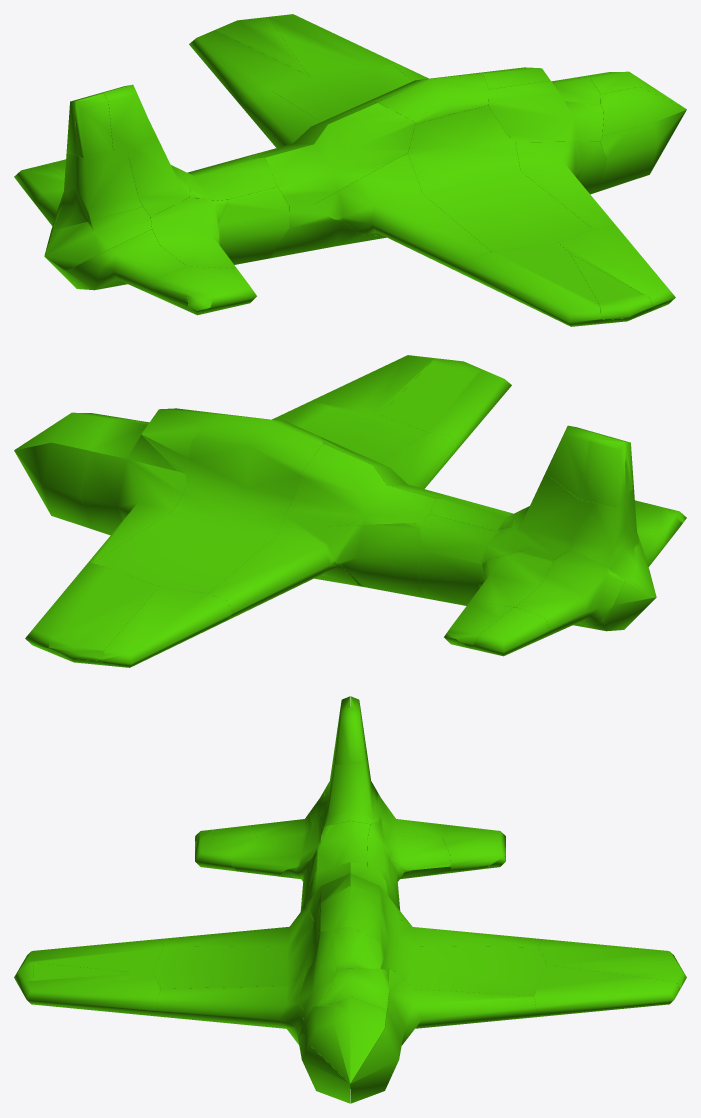
Rendered from plane_shattered.fbx.
The picture shows the model from 3 angles, top to bottom: view 1: azimuth 30°, elevation 25°; view 2: azimuth 150°, elevation 25°; view 3: azimuth 270°, elevation 25°; orthographic projection. The views are drawn at different scales.
Visible parts, largest first — view 1: Plane_cell.013, Plane_cell.032, Plane_cell.030, Plane_cell.023, Plane_cell.005, Plane_cell.039, Plane_cell.025, Plane_cell.019, Plane_cell.012, Plane_cell, Plane_cell.016, Plane_cell.014 (+23 smaller); view 2: Plane_cell.012, Plane_cell.037, Plane_cell.020, Plane_cell.015, Plane_cell.009, Plane_cell, Plane_cell.043, Plane_cell.040, Plane_cell.023, Plane_cell.008, Plane_cell.025, Plane_cell.035 (+23 smaller); view 3: Plane_cell.013, Plane_cell.012, Plane_cell.039, Plane_cell.008, Plane_cell.015, Plane_cell.010, Plane_cell.037, Plane_cell.023, Plane_cell.016, Plane_cell.042, Plane_cell.045, Plane_cell (+22 smaller).
Boxes of the visible parts, x1,y1,x2,y2 form: Plane_cell.013: [408, 106, 592, 251]; Plane_cell.032: [312, 153, 491, 278]; Plane_cell.030: [265, 103, 415, 205]; Plane_cell.023: [466, 242, 600, 326]; Plane_cell.005: [488, 80, 603, 142]; Plane_cell.039: [515, 141, 615, 228]; Plane_cell.025: [53, 152, 142, 229]; Plane_cell.019: [218, 187, 289, 264]; Plane_cell.012: [272, 64, 412, 121]; Plane_cell: [189, 30, 309, 105]; Plane_cell.016: [150, 198, 236, 268]; Plane_cell.014: [66, 229, 186, 297]; Plane_cell.012: [94, 487, 286, 593]; Plane_cell.037: [184, 415, 322, 510]; Plane_cell.020: [288, 444, 435, 526]; Plane_cell.015: [80, 451, 186, 562]; Plane_cell.009: [208, 510, 360, 620]; Plane_cell: [101, 587, 232, 667]; Plane_cell.043: [324, 523, 425, 598]; Plane_cell.040: [516, 550, 624, 637]; Plane_cell.023: [375, 370, 511, 447]; Plane_cell.008: [25, 562, 158, 653]; Plane_cell.025: [570, 488, 639, 582]; Plane_cell.035: [14, 442, 90, 528]; Plane_cell.013: [153, 906, 320, 988]; Plane_cell.012: [396, 932, 546, 995]; Plane_cell.039: [156, 972, 305, 1044]; Plane_cell.008: [533, 965, 680, 1017]; Plane_cell.015: [350, 969, 536, 1088]; Plane_cell.010: [20, 972, 160, 1016]; Plane_cell.037: [319, 886, 397, 972]; Plane_cell.023: [20, 939, 163, 971]; Plane_cell.016: [231, 819, 322, 876]; Plane_cell.042: [332, 997, 386, 1082]; Plane_cell.045: [320, 762, 381, 827]; Plane_cell: [538, 939, 679, 965].
Size of the model in its own units: 1164 by 377 by 1242.
